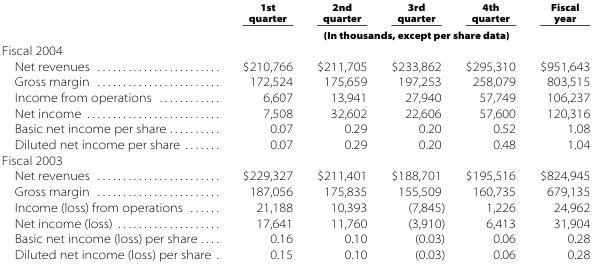table: (0, 0, 589, 261)
table column: (0, 0, 226, 261), (226, 0, 304, 261), (378, 0, 454, 261), (304, 0, 378, 261), (454, 0, 527, 261), (527, 0, 589, 261)
table column header: (0, 0, 589, 42)
table projected row header: (0, 42, 589, 58), (0, 152, 589, 167)
table row: (0, 0, 589, 26), (0, 26, 589, 42), (0, 42, 589, 58), (0, 73, 589, 89), (0, 89, 589, 105), (0, 120, 589, 136), (0, 136, 589, 152), (0, 167, 589, 183), (0, 183, 589, 199), (0, 199, 589, 215), (0, 230, 589, 246), (0, 58, 589, 73), (0, 105, 589, 120), (0, 152, 589, 167), (0, 215, 589, 230), (0, 246, 589, 261)
table spanning cell: (226, 26, 589, 42)
